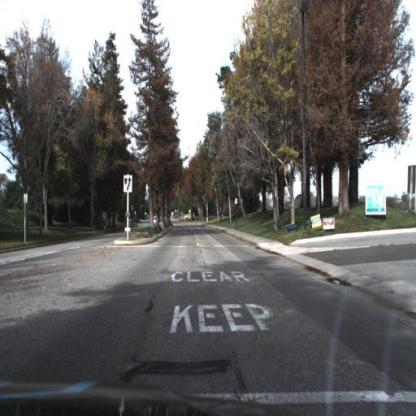car: (152, 218, 160, 227)
